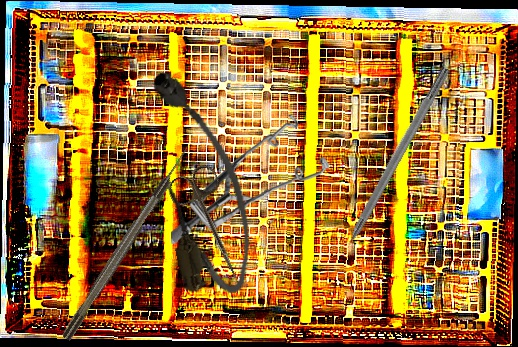Cannula: (138, 58, 263, 304)
Hook Surgical: (59, 146, 193, 342), (331, 64, 452, 267)
Iris Scissors: (164, 161, 261, 288)
Speculum: (166, 113, 332, 244)
